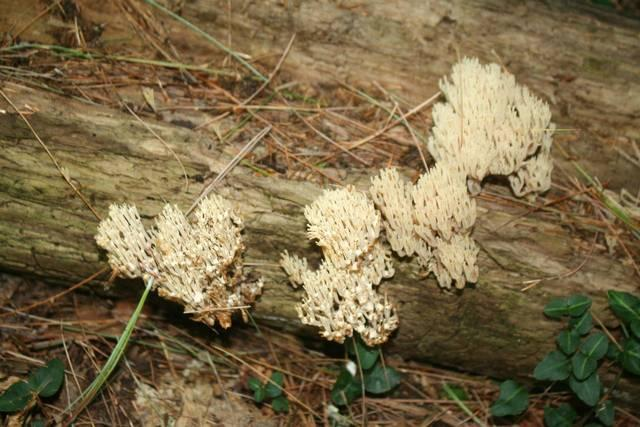Edible Mushroom: (93, 191, 264, 330), (278, 184, 400, 346), (426, 55, 555, 198), (373, 153, 484, 294)
